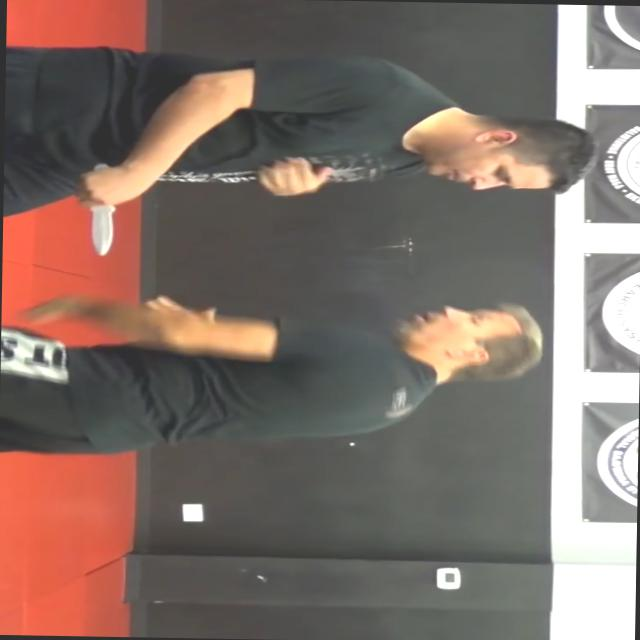knife: (78, 154, 130, 263)
